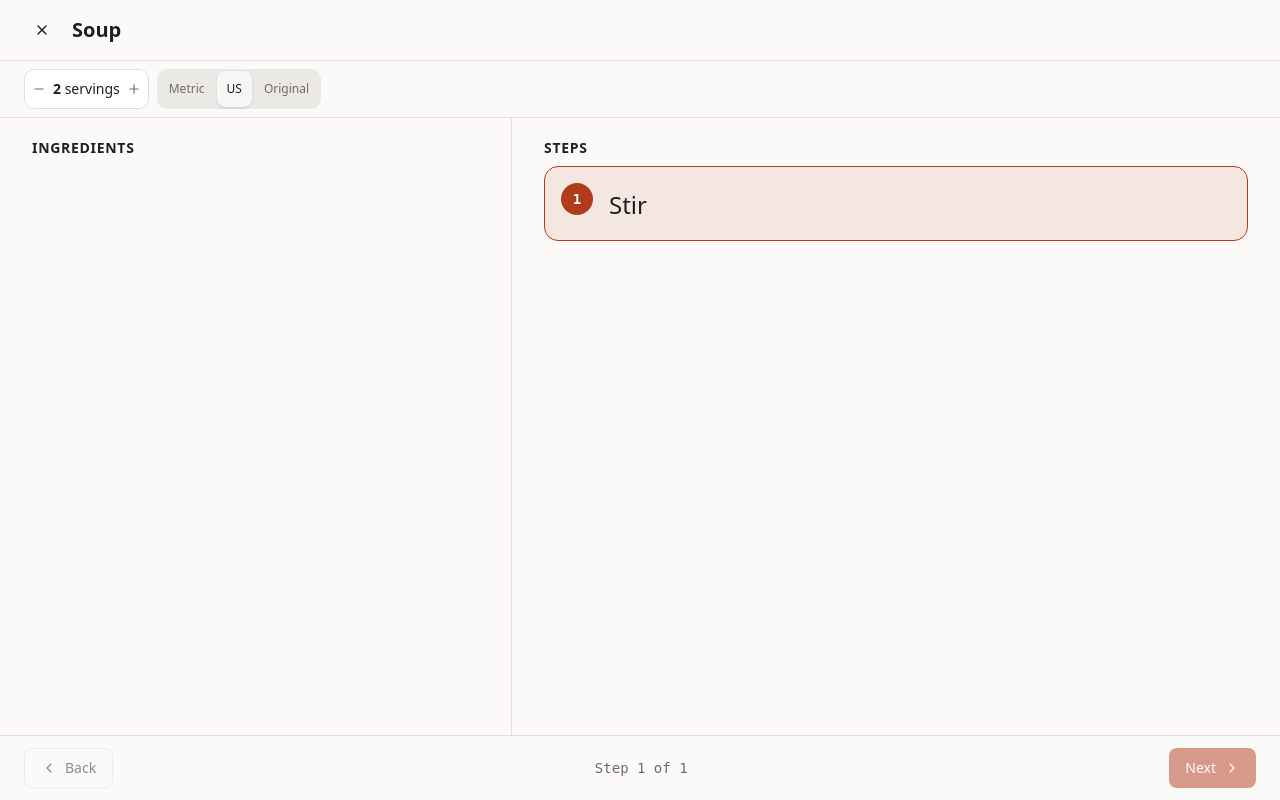
cooking view › replaces itself with the recipe when opened directly
Step 1. Click the link named "Leave cooking view" → (42, 30), box [34,22,50,38]
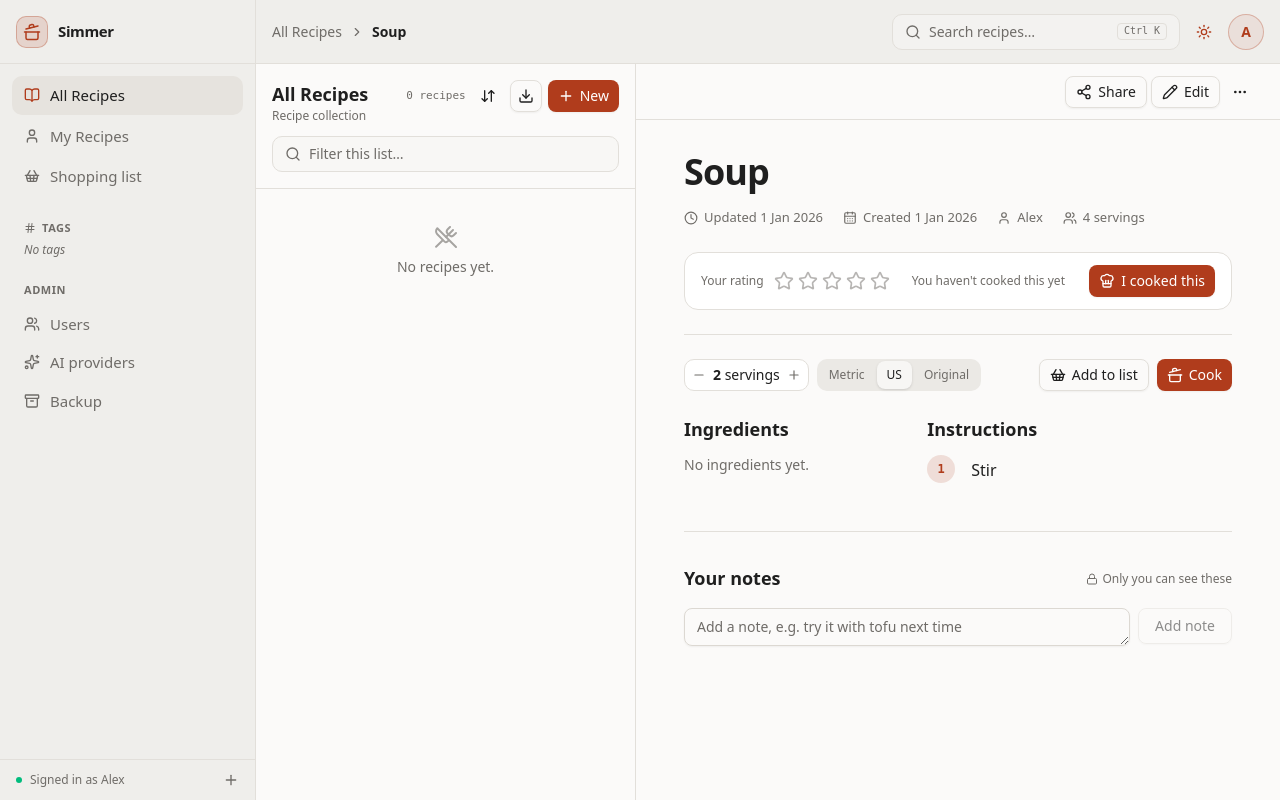
Expected: the radio button labelled "US" is checked, [876,360,912,388]
Expected: the heading "Soup" is shown, [684,147,769,196]
